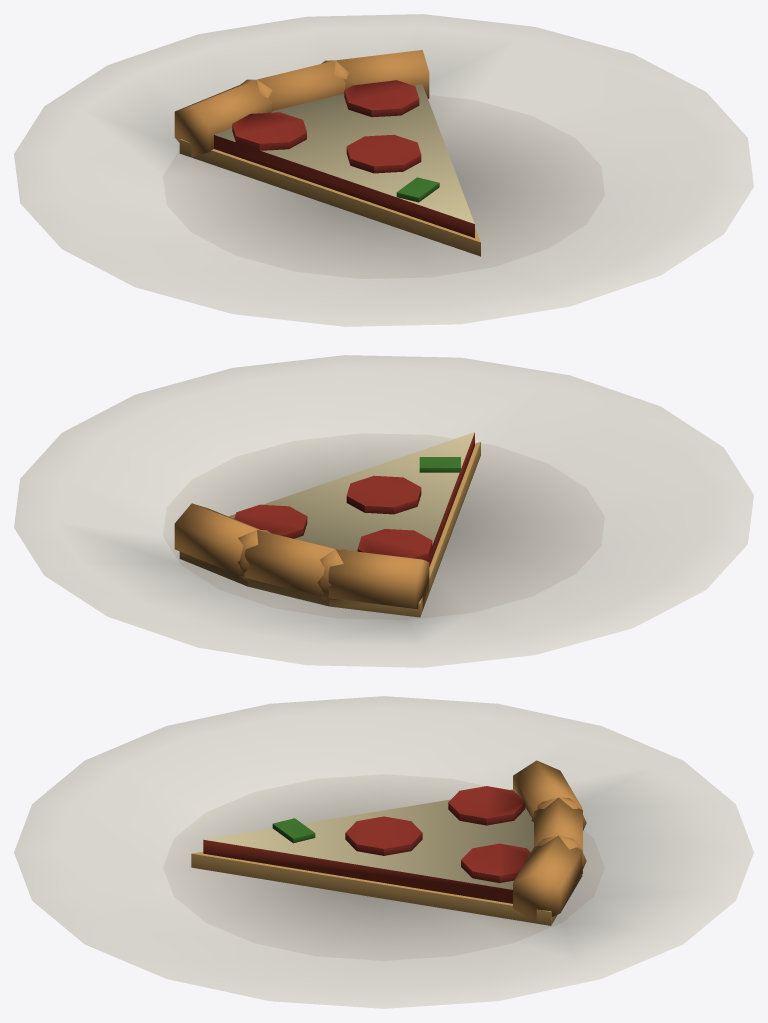
The model's file is pizzaSlice.glb.
3 views of the same model, one above another, from view 1: azimuth 30°, elevation 25°; view 2: azimuth 150°, elevation 25°; view 3: azimuth 270°, elevation 25° (orthographic).
Parts seen in each view (by area): view 1: pizzaSlice; view 2: pizzaSlice; view 3: pizzaSlice.
Boxes of the visible parts, x1,y1,x2,y2 form: pizzaSlice: [14, 14, 753, 326]; pizzaSlice: [14, 355, 753, 667]; pizzaSlice: [14, 696, 753, 1008].
Bounding box in the file's own units: 0.288 × 0.031 × 0.288.
